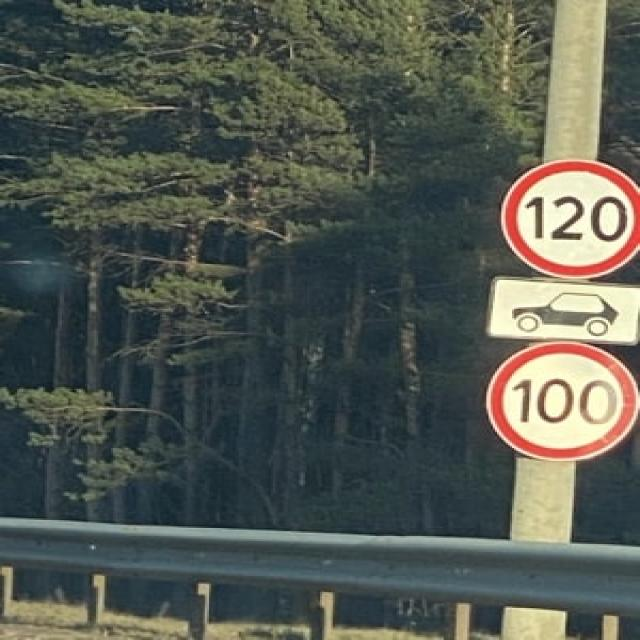Speed Limit -100-: (512, 377, 618, 425)
Speed Limit -120-: (523, 194, 630, 244)
